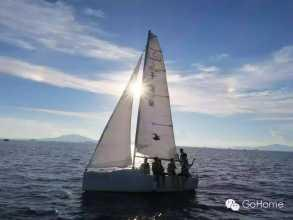fanchuan: (80, 29, 196, 191)
